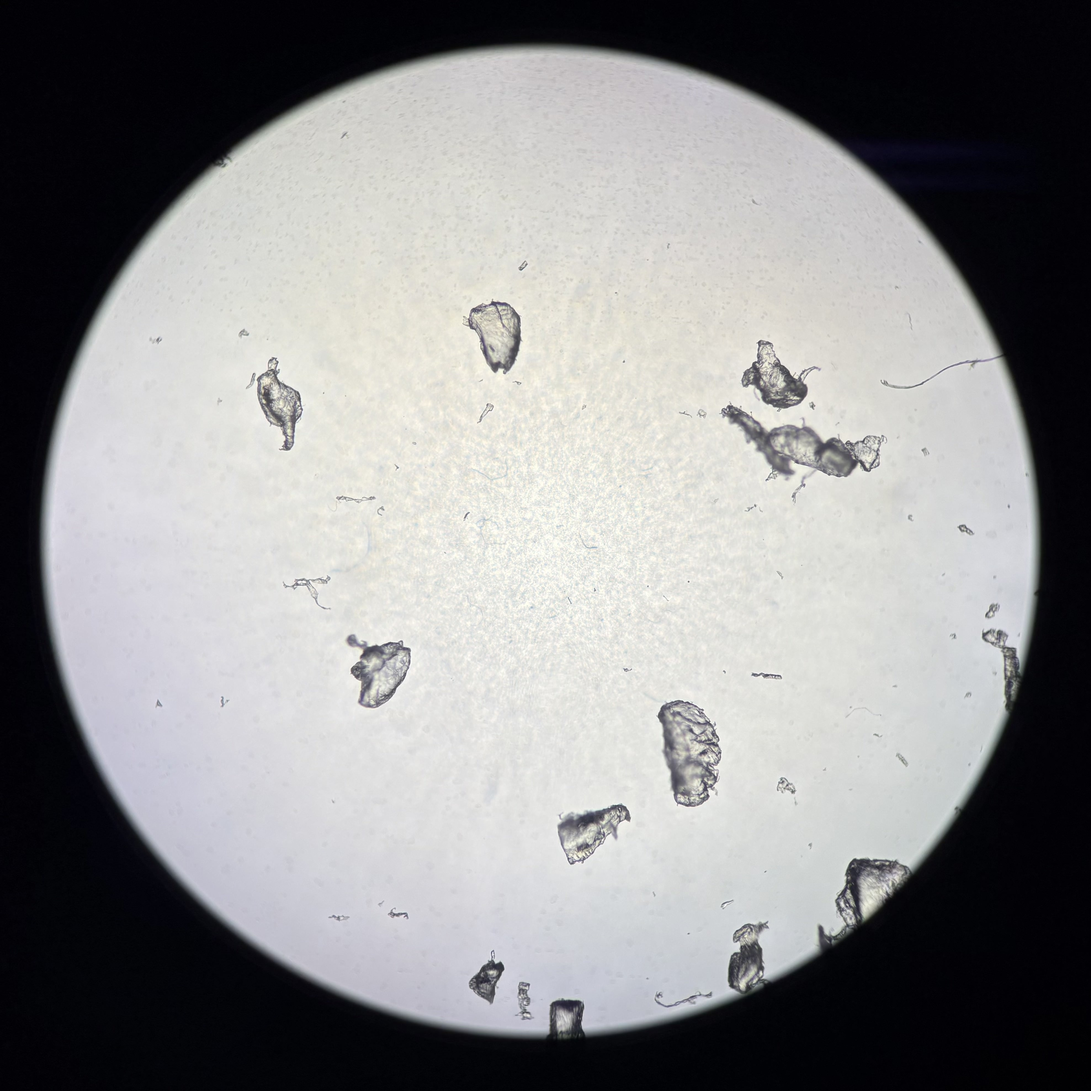microplastic: (721, 402, 888, 489), (816, 855, 915, 956), (656, 698, 721, 811), (550, 800, 637, 867), (744, 337, 821, 411), (342, 629, 417, 704), (248, 357, 305, 452), (977, 622, 1028, 718), (463, 298, 525, 372), (727, 917, 773, 991), (464, 949, 505, 1003), (280, 570, 335, 610), (543, 997, 591, 1040), (650, 984, 713, 1009), (772, 773, 802, 800), (514, 981, 533, 1015), (747, 671, 785, 687)
